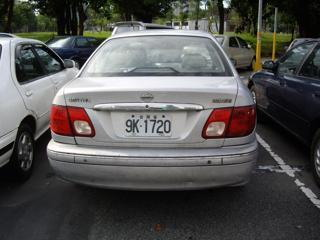plate: (123, 111, 173, 139)
